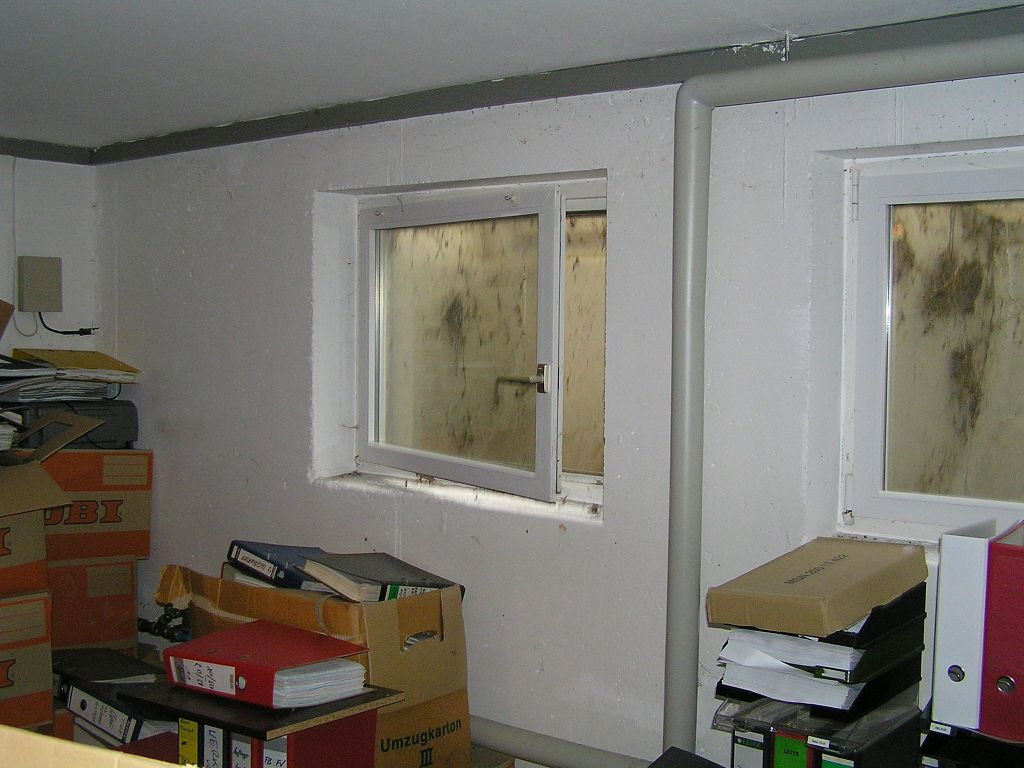windows: (354, 193, 610, 515)
